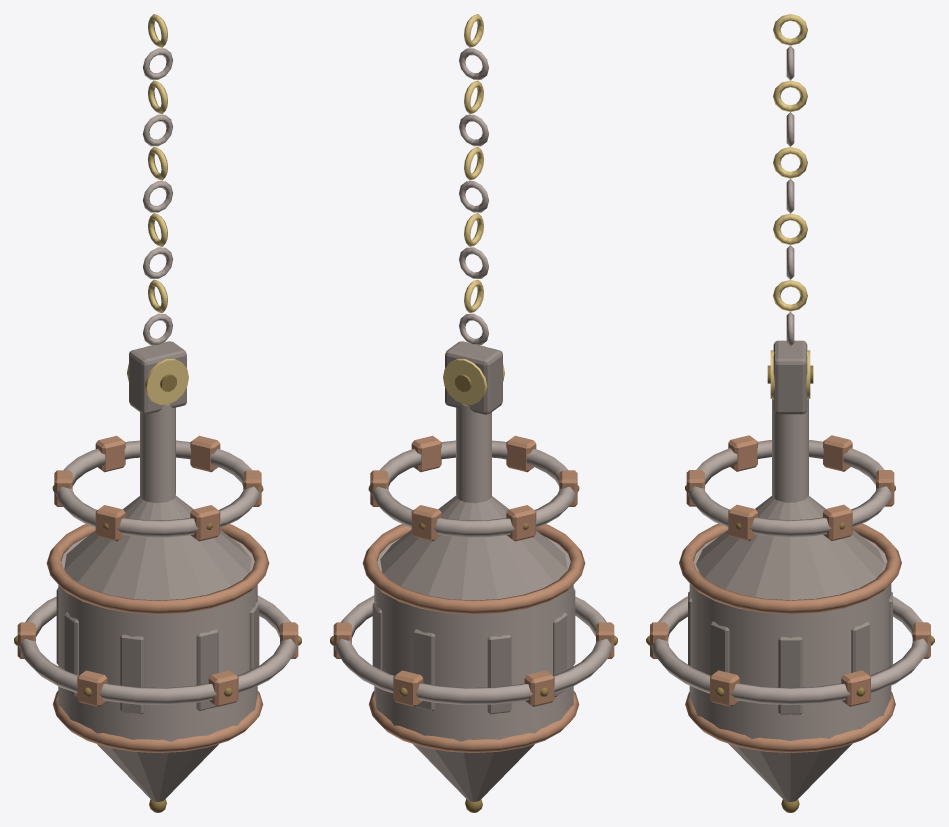
The model's file is plumb.glb.
3 views of the same model, side by side, from view 1: azimuth 30°, elevation 25°; view 2: azimuth 150°, elevation 25°; view 3: azimuth 270°, elevation 25° (orthographic).
Visible parts, largest first — view 1: plumb*1.7, plumb*1.011, plumb*1.018, rust, plumb*1.019, plumb*1.012, plumb*1.2, rust.001, plumb*1.020, plumb*1.010, brass.005, plumb*1.001 (+13 smaller); view 2: plumb*1.7, plumb*1.011, plumb*1.018, rust, plumb*1.019, plumb*1.012, plumb*1.2, rust.001, plumb*1.020, plumb*1.008, brass.005, plumb*1.006 (+13 smaller); view 3: plumb*1.7, plumb*1.011, plumb*1.018, rust, plumb*1.019, plumb*1.012, plumb*1.2, rust.001, plumb*1.020, plumb*1.004, plumb*1.003, plumb*1.005 (+11 smaller).
Boxes of the visible parts, box(x1,y1,x2,y2) form: plumb*1.7: box(58, 536, 257, 741); plumb*1.011: box(64, 495, 251, 600); plumb*1.018: box(18, 595, 296, 704); rust: box(46, 524, 269, 614); plumb*1.019: box(55, 440, 260, 537); plumb*1.012: box(140, 404, 175, 503); plumb*1.2: box(97, 744, 218, 801); rust.001: box(52, 691, 263, 752); plumb*1.020: box(129, 341, 186, 414); plumb*1.010: box(120, 634, 144, 714); brass.005: box(127, 345, 188, 404); plumb*1.001: box(196, 629, 218, 710); plumb*1.7: box(374, 536, 573, 741); plumb*1.011: box(380, 495, 567, 600); plumb*1.018: box(335, 595, 613, 704); rust: box(362, 524, 585, 614); plumb*1.019: box(371, 440, 576, 537); plumb*1.012: box(456, 404, 491, 503); plumb*1.2: box(413, 744, 534, 801); rust.001: box(368, 691, 579, 752); plumb*1.020: box(445, 341, 502, 414); plumb*1.008: box(487, 634, 511, 714); brass.005: box(443, 345, 504, 404); plumb*1.006: box(413, 629, 435, 710); plumb*1.7: box(689, 537, 891, 740); plumb*1.011: box(696, 495, 884, 600); plumb*1.018: box(651, 596, 929, 705); rust: box(679, 523, 901, 614); plumb*1.019: box(688, 440, 892, 537); plumb*1.012: box(772, 399, 808, 502); plumb*1.2: box(728, 743, 852, 801); rust.001: box(685, 692, 895, 752); plumb*1.020: box(773, 340, 807, 414); plumb*1.004: box(778, 636, 802, 714); plumb*1.003: box(711, 621, 729, 675); plumb*1.005: box(851, 621, 869, 675).
Size of the model in its own units: 1.84 by 5.77 by 1.89.
